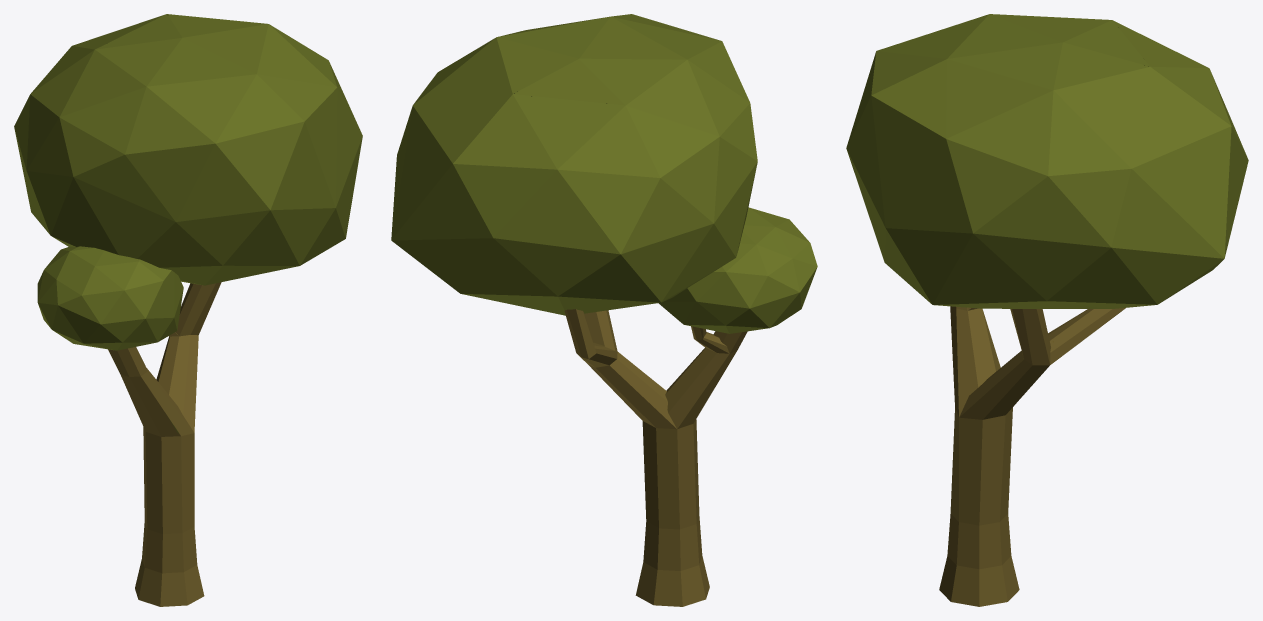
The model's file is Tree14.fbx.
The picture shows the model from 3 angles, left to right: view 1: azimuth 30°, elevation 25°; view 2: azimuth 150°, elevation 25°; view 3: azimuth 270°, elevation 25°; orthographic projection. The views are drawn at different scales.
Visible parts, largest first — view 1: Tree14; view 2: Tree14; view 3: Tree14.
Part boxes in pixels (left/top/right/bottom): Tree14: left=14, top=14, right=362, bottom=606; Tree14: left=391, top=14, right=817, bottom=606; Tree14: left=846, top=14, right=1248, bottom=606.
Size of the model in its own units: 1081 by 1635 by 1037.
1 material, 1 textured.
